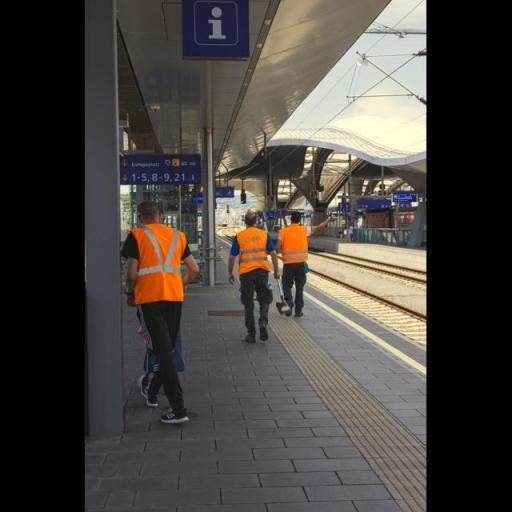Person: (122, 187, 202, 452), (224, 198, 282, 356), (270, 194, 328, 324)
vest: (122, 222, 194, 320), (230, 228, 272, 275), (276, 226, 316, 268)
